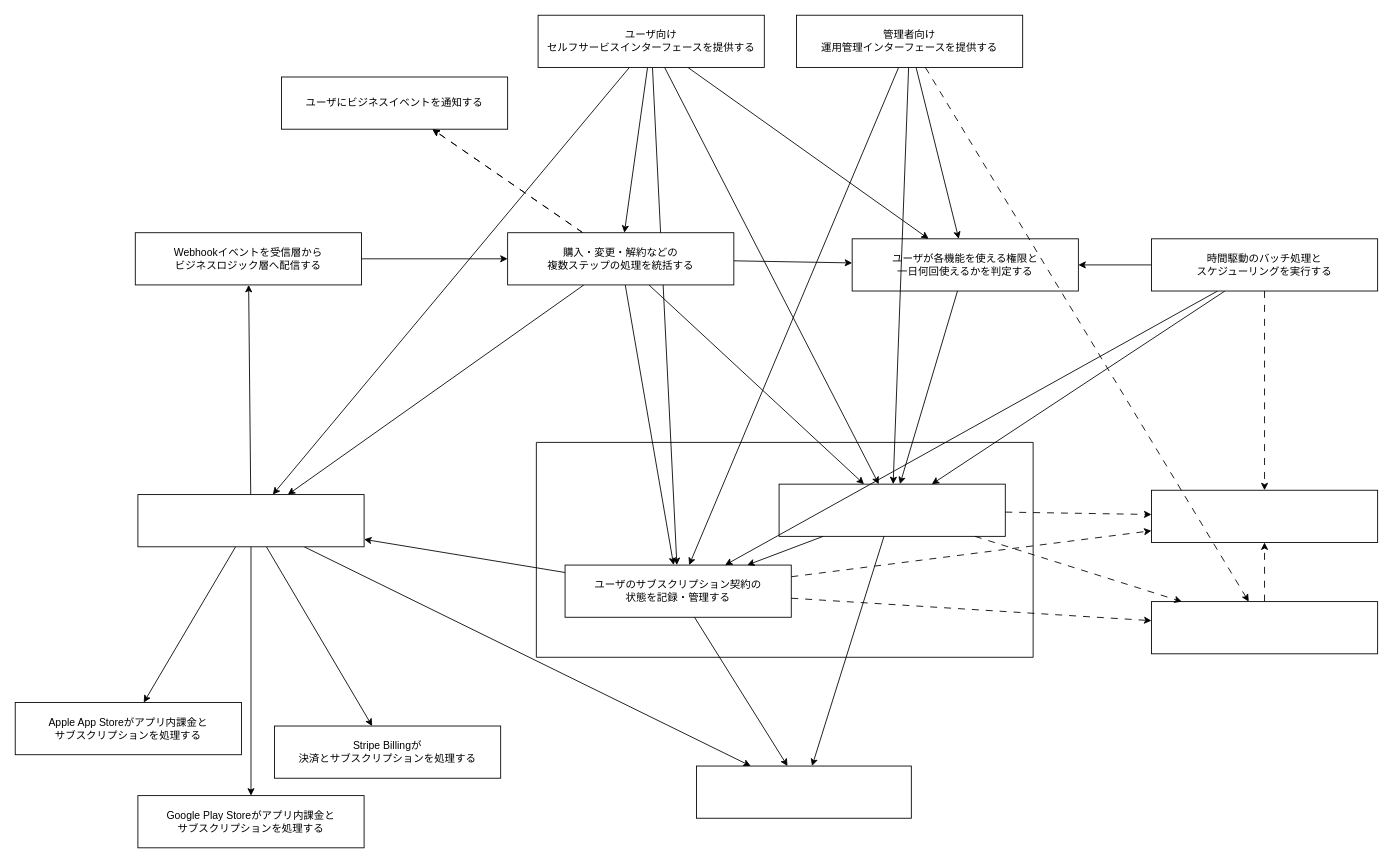
This 1393x863 diagram has some shape labels left out. Each missing label, with the centre of its shape:
"Stripe/Apple/Googleの決済システムとの やり取りを一本化する" goes at point (250, 520).
"どんなプランがあって、 誰がどのプランに入っているかを管理する" goes at point (891, 509).
"エラー時の再試行、監視、ログ記録で システムの安定稼働を保証する" goes at point (1264, 627).
"プラン・サブスクリプションのデータモデルを管理する (DB)" goes at point (803, 791).
"管理者にシステム異常をアラートする" goes at point (1264, 515).
